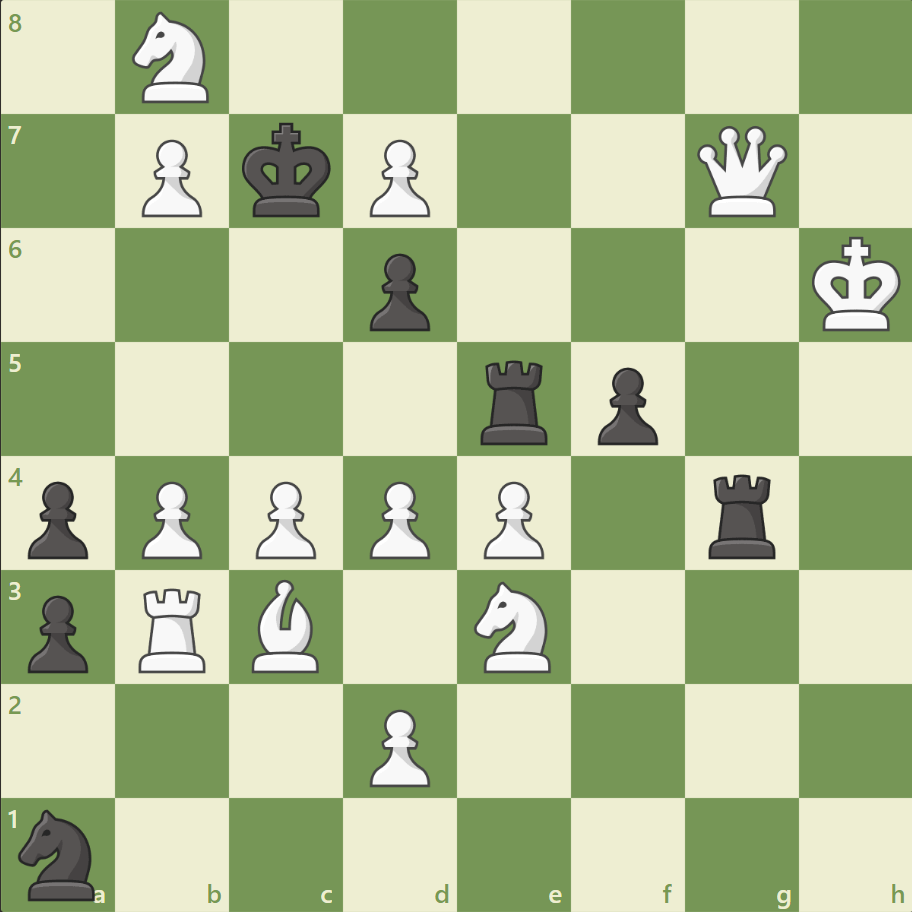B: (244, 574, 328, 676)
K: (806, 231, 906, 339)
N: (124, 7, 222, 110), (465, 575, 562, 677)
P: (133, 132, 208, 223), (133, 473, 208, 564), (247, 473, 322, 564), (474, 473, 549, 564), (361, 132, 435, 223), (361, 473, 435, 564), (361, 700, 435, 791)
Q: (691, 122, 790, 222)
R: (133, 579, 215, 676)
k: (238, 117, 338, 225)
n: (11, 802, 108, 904)
p: (20, 473, 95, 564), (20, 586, 95, 677), (361, 246, 435, 337), (588, 359, 662, 450)
r: (473, 352, 556, 449), (700, 466, 783, 563)
